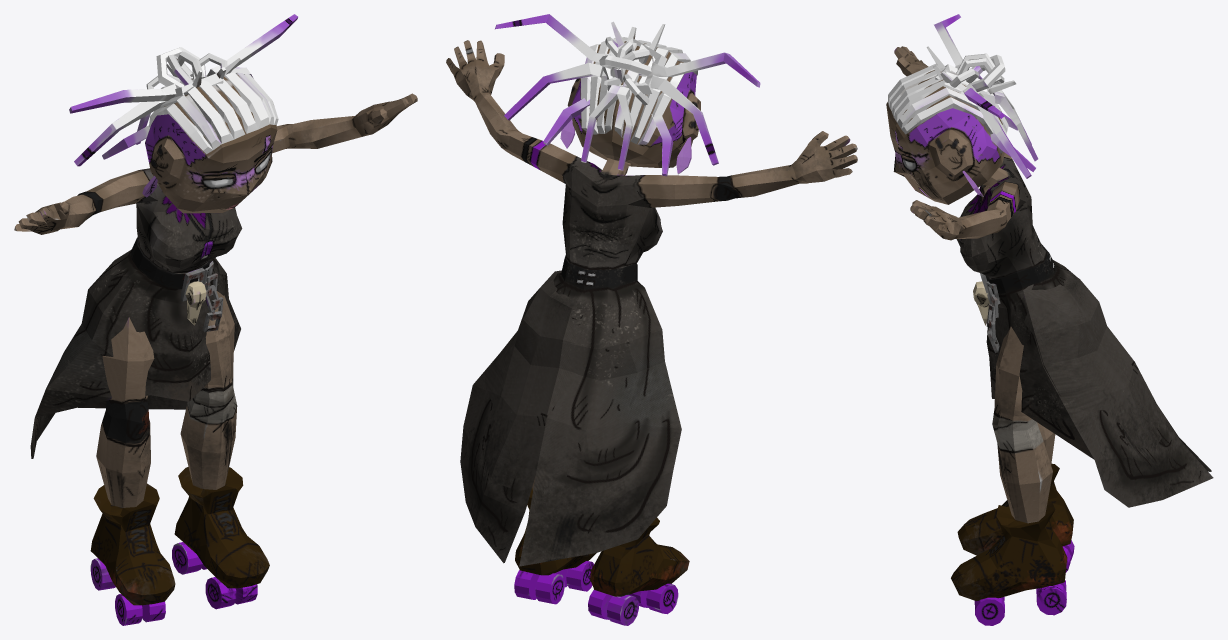
Rendered from bruja_000086.obj.
The picture shows the model from 3 angles, left to right: view 1: azimuth 30°, elevation 25°; view 2: azimuth 150°, elevation 25°; view 3: azimuth 270°, elevation 25°; orthographic projection. The views are drawn at different scales.
Parts seen in each view (by area): view 1: Bruja_Plane.001; view 2: Bruja_Plane.001; view 3: Bruja_Plane.001.
Part boxes in pixels (box(x1,y1,x2,y2)): Bruja_Plane.001: box(14, 14, 417, 625); Bruja_Plane.001: box(446, 14, 857, 625); Bruja_Plane.001: box(886, 14, 1213, 625).
Size of the model in its own units: 12.03 by 16.22 by 8.84.
